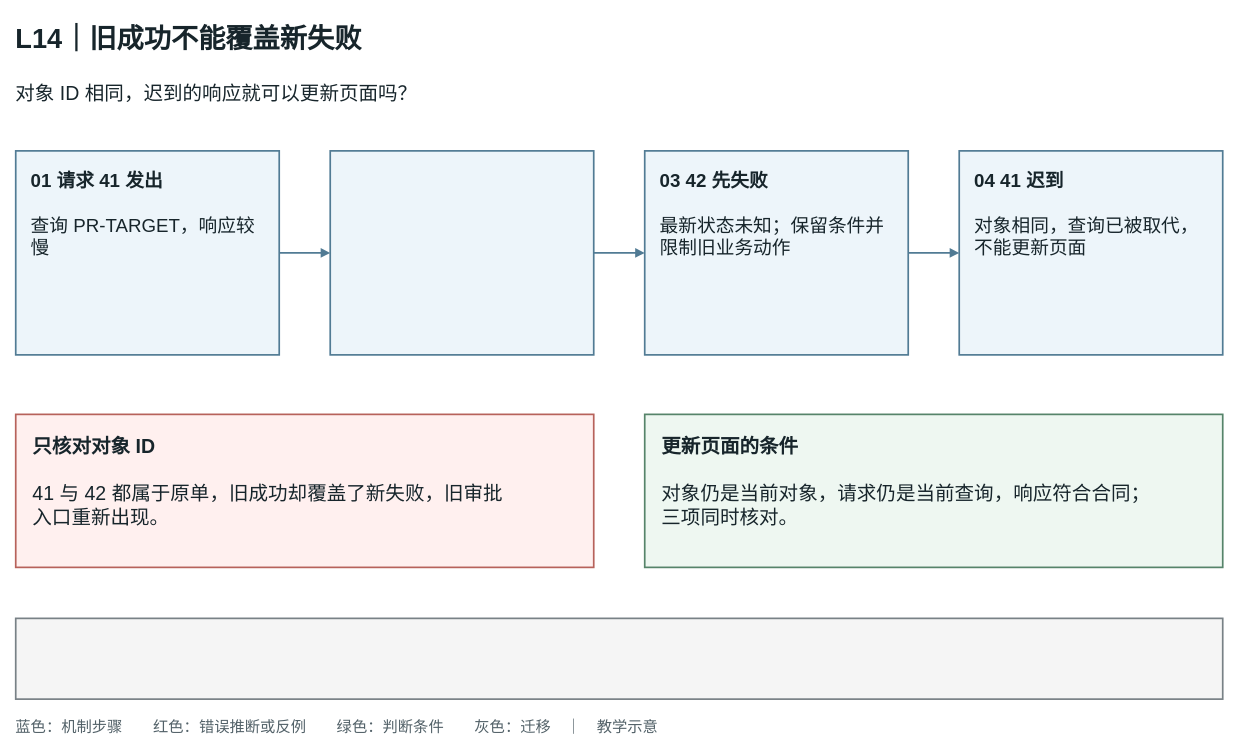
This 1238x756 diagram has some shape labels left out. The shapes that lost their labels are listed below. From the top down, each one's centre as x and y in pixels, then its label:
the point at 461,252: 02 请求 42 发出 仍查原单；发出时更新当前 请求序号
the point at 618,658: 恢复与迁移 恢复网络后用 43 查原单；商品搜索也要拒绝被新关键词取代的结果。
